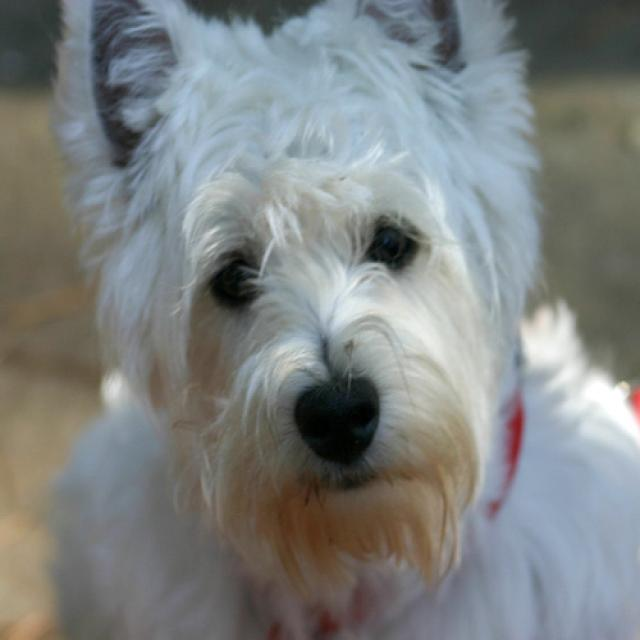dog-scottish_terrier: (41, 1, 637, 637)
